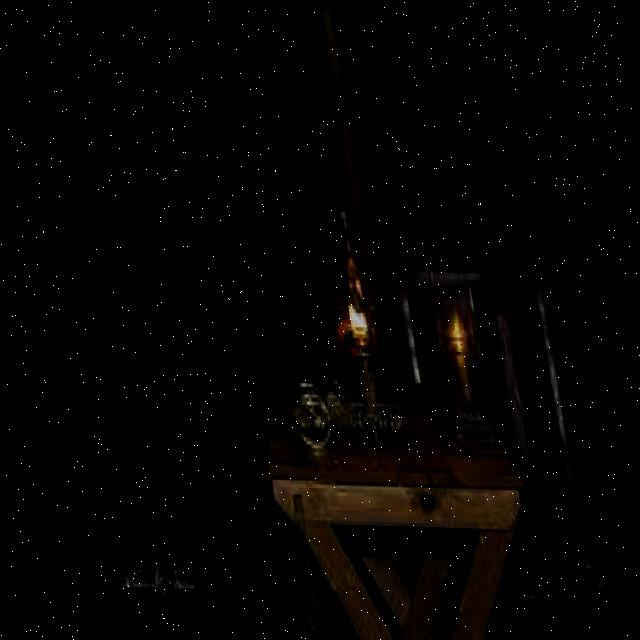Fire: (430, 302, 466, 353), (329, 282, 360, 332)
